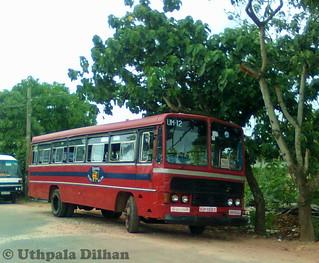bus: (25, 109, 257, 232)
car: (0, 149, 23, 202)
